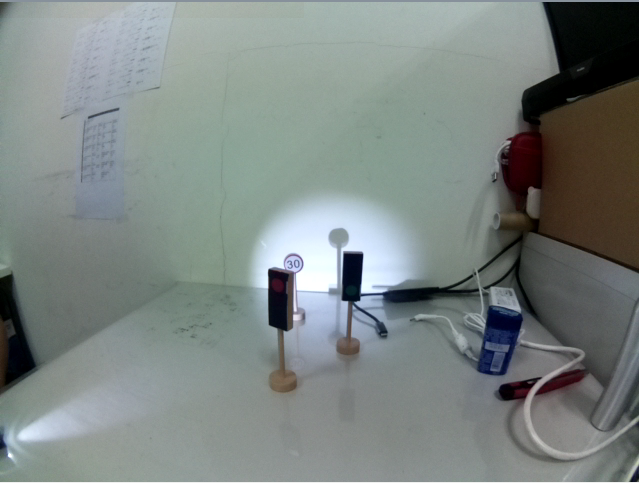Green: (339, 247, 366, 305)
Red: (266, 268, 295, 336)
Speed30: (281, 252, 307, 274)
